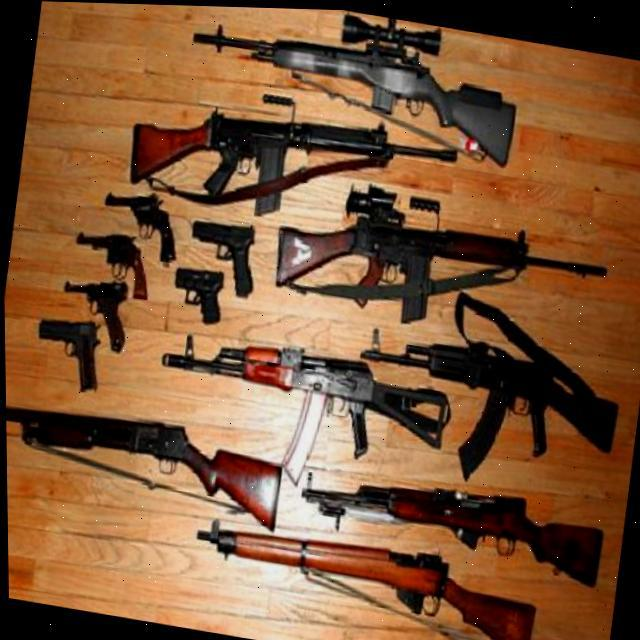gun: (96, 182, 185, 264), (180, 213, 262, 300), (66, 224, 156, 300), (28, 310, 108, 390), (62, 270, 134, 352), (165, 262, 228, 324)
